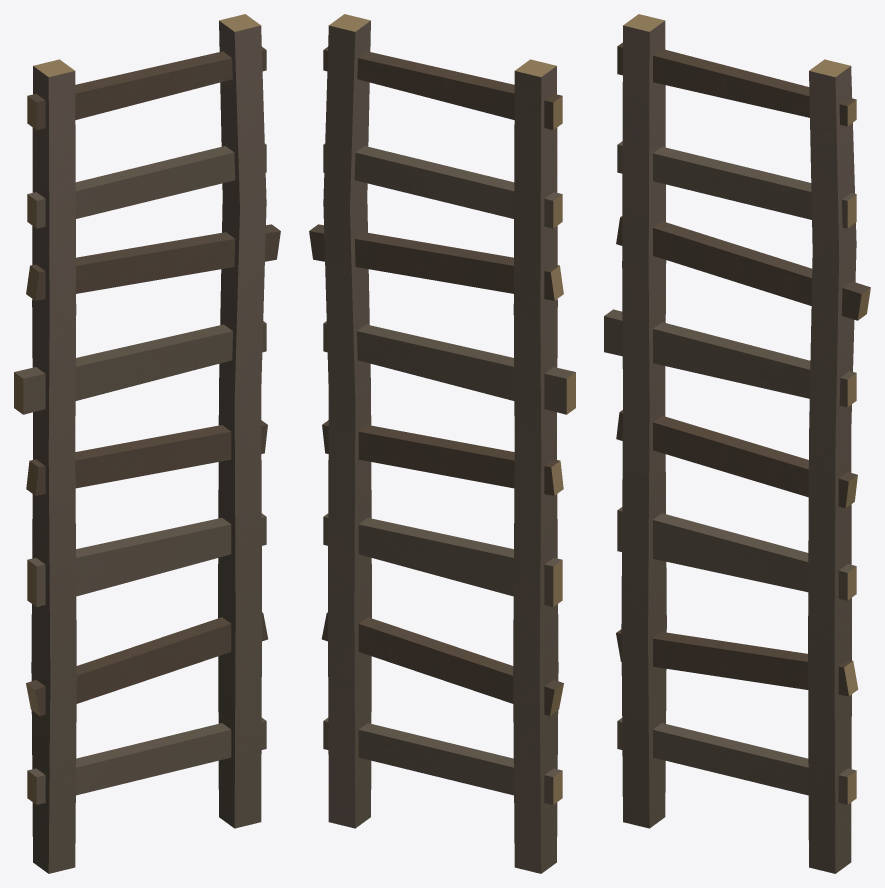
File: Ladder.fbx
3 views of the same model, side by side, from view 1: azimuth 30°, elevation 25°; view 2: azimuth 150°, elevation 25°; view 3: azimuth 330°, elevation 25° (orthographic).
Visible parts, largest first — view 1: polySurface1518; view 2: polySurface1518; view 3: polySurface1518.
Boxes of the visible parts, <box> form: polySurface1518: <box>14,14,280,873</box>; polySurface1518: <box>309,14,575,873</box>; polySurface1518: <box>604,14,870,873</box>.
Bounding box in the file's own units: 142 × 420 × 18.03.
